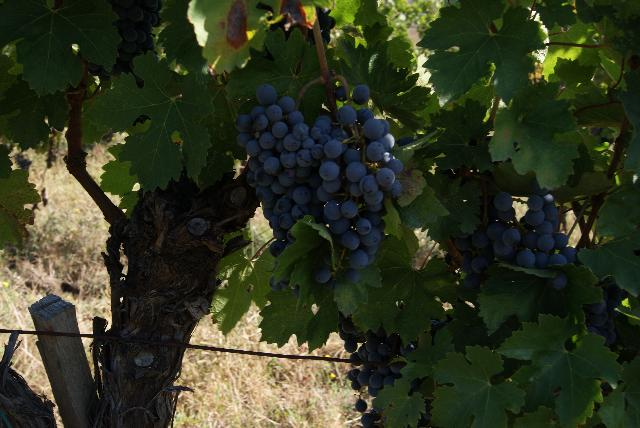grapes: (235, 85, 331, 258), (455, 181, 578, 289), (324, 105, 402, 270)
